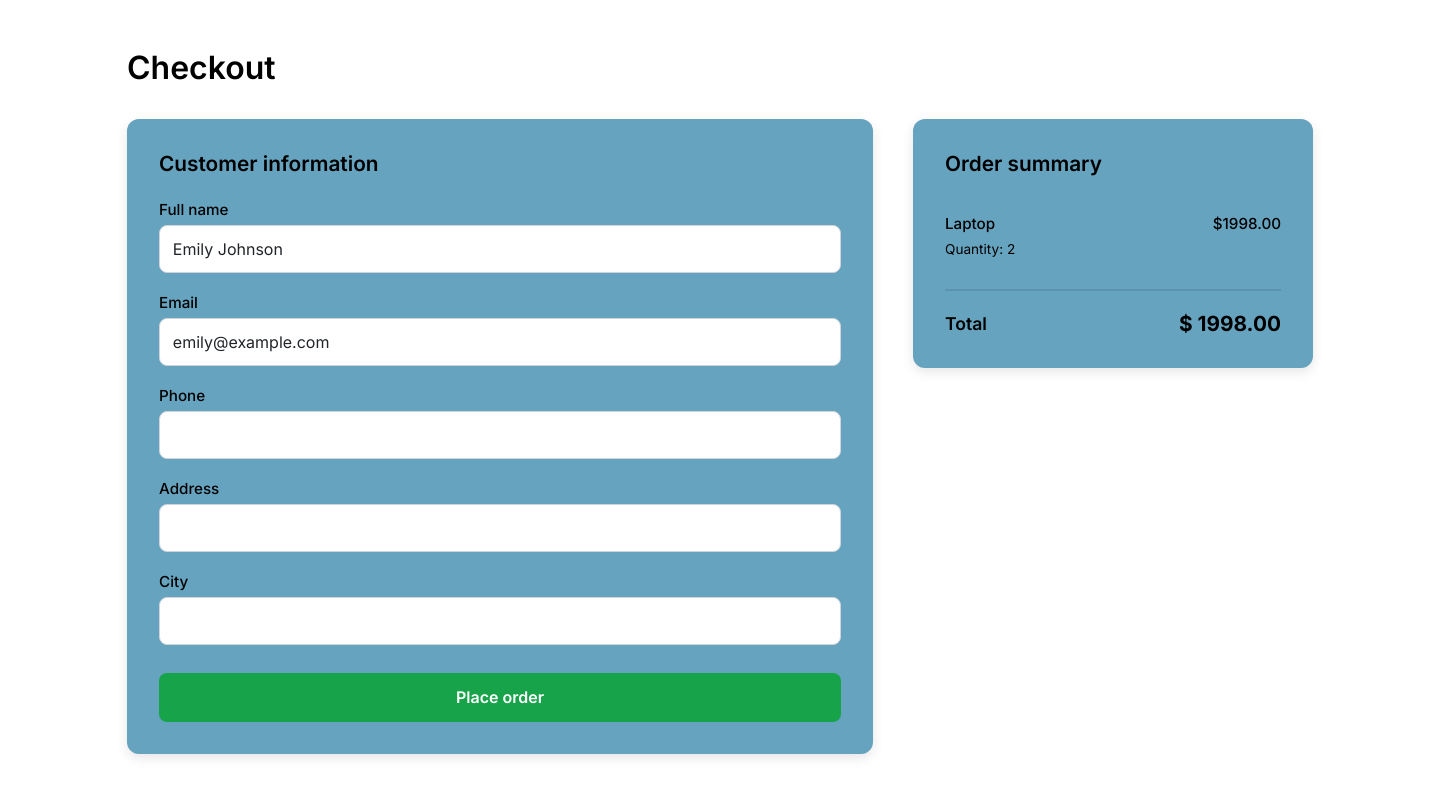
it: Checkout › shows validation errors when the form is empty
The width and height of the screenshot is (1440, 785).
Clear the field labelled "Full name" at (500, 249), box x1=159 y1=225 x2=841 y2=273
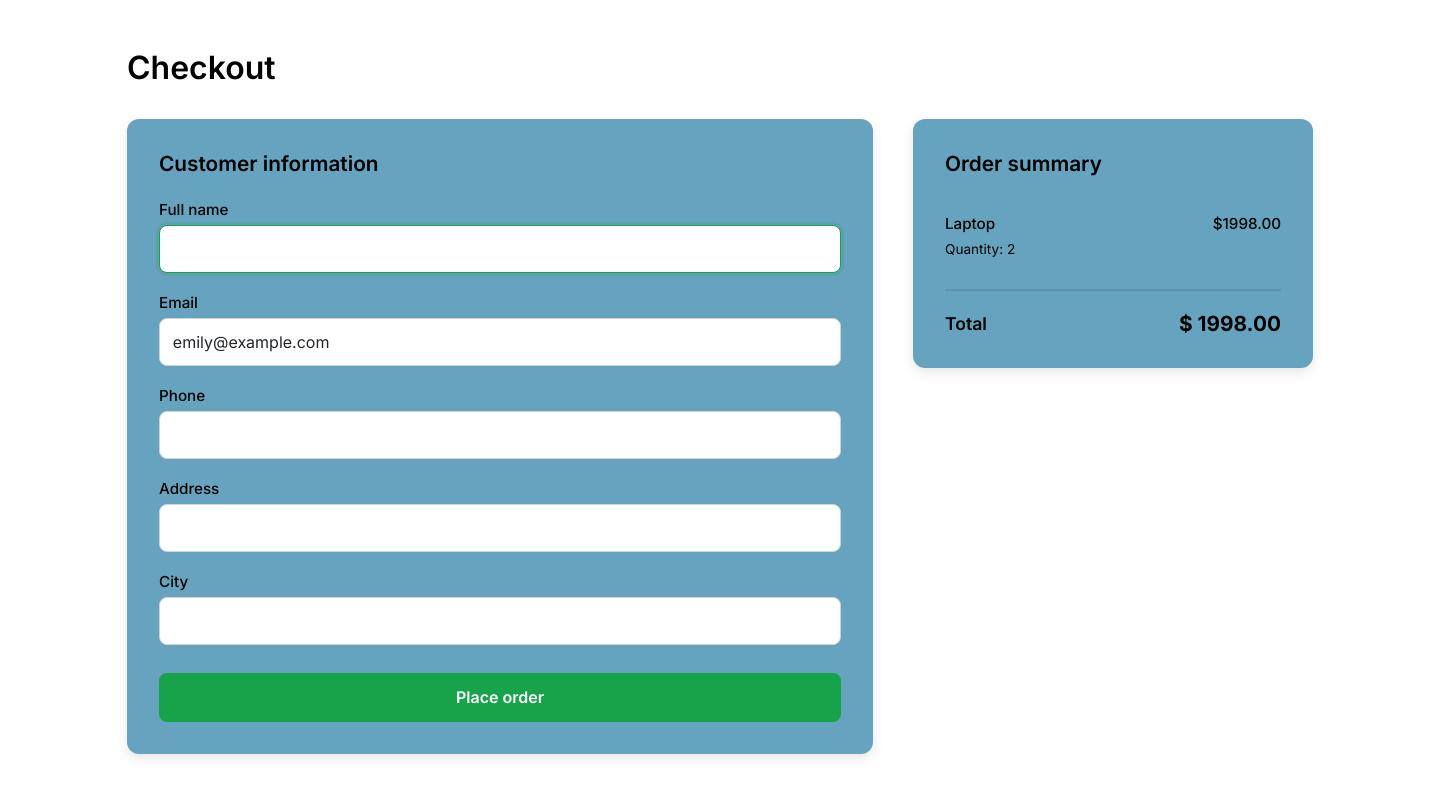
Clear the field labelled "Email" at (500, 342), box x1=159 y1=318 x2=841 y2=366
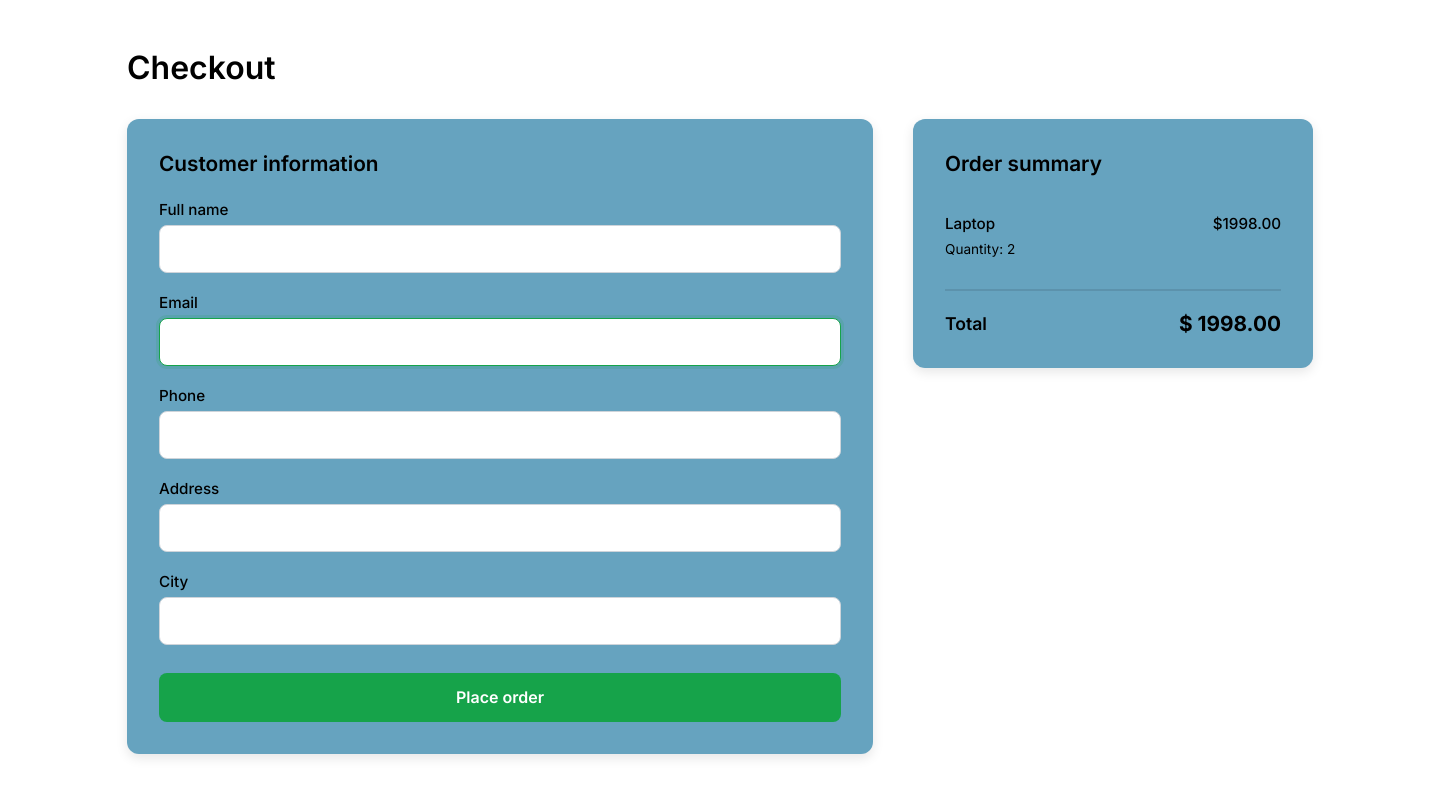
Click the button "Place order" at (500, 697), box x1=159 y1=673 x2=841 y2=722
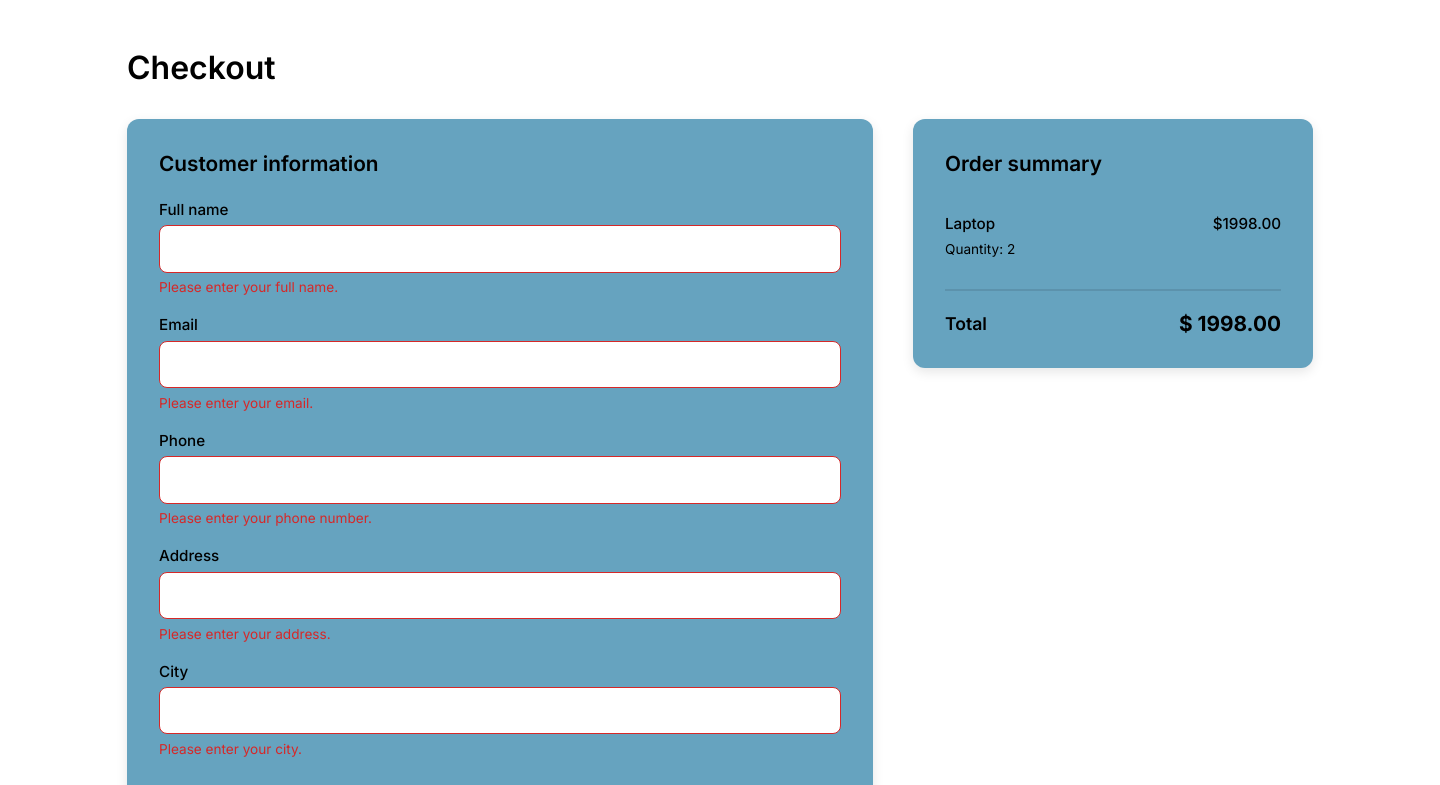
Expected: the text "Please enter your full name." is shown, x1=159 y1=279 x2=338 y2=295
Expected: the text "Please enter your email." is shown, x1=159 y1=395 x2=313 y2=411
Expected: the text "Please enter your phone number." is shown, x1=159 y1=510 x2=372 y2=526
